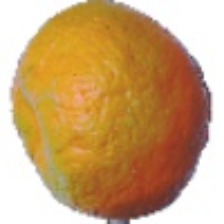tangerine: (17, 41, 196, 214)
